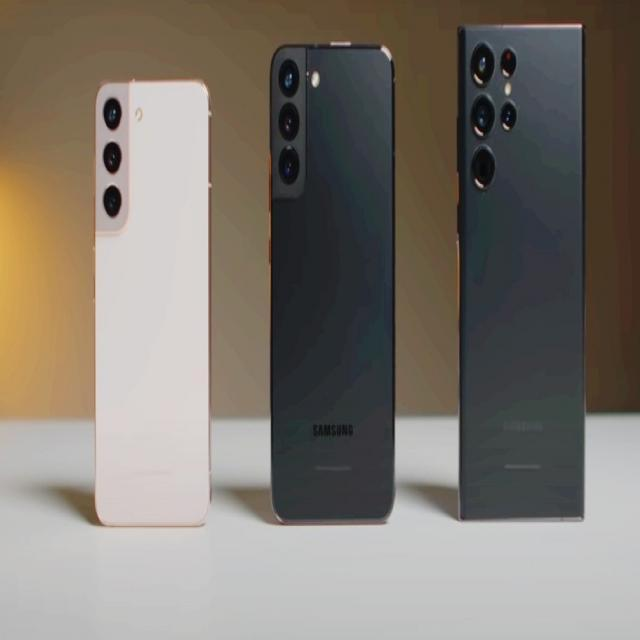phone: (455, 24, 585, 523), (267, 42, 396, 524), (94, 79, 210, 528)
